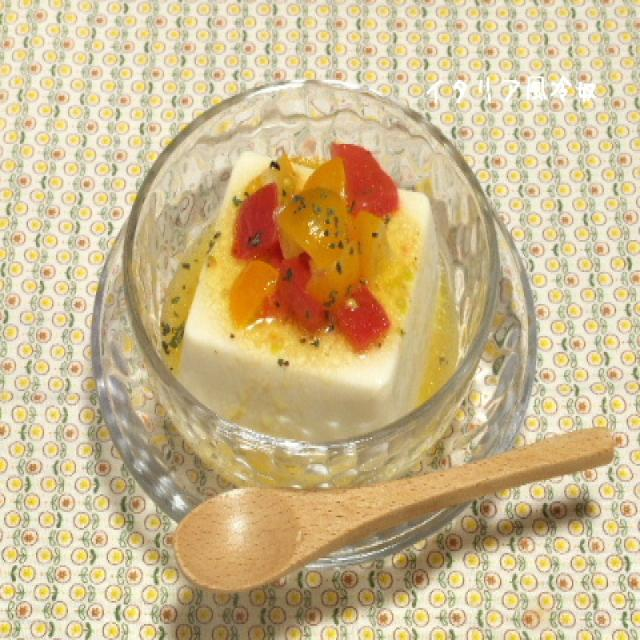豆腐料理: (181, 144, 440, 434)
